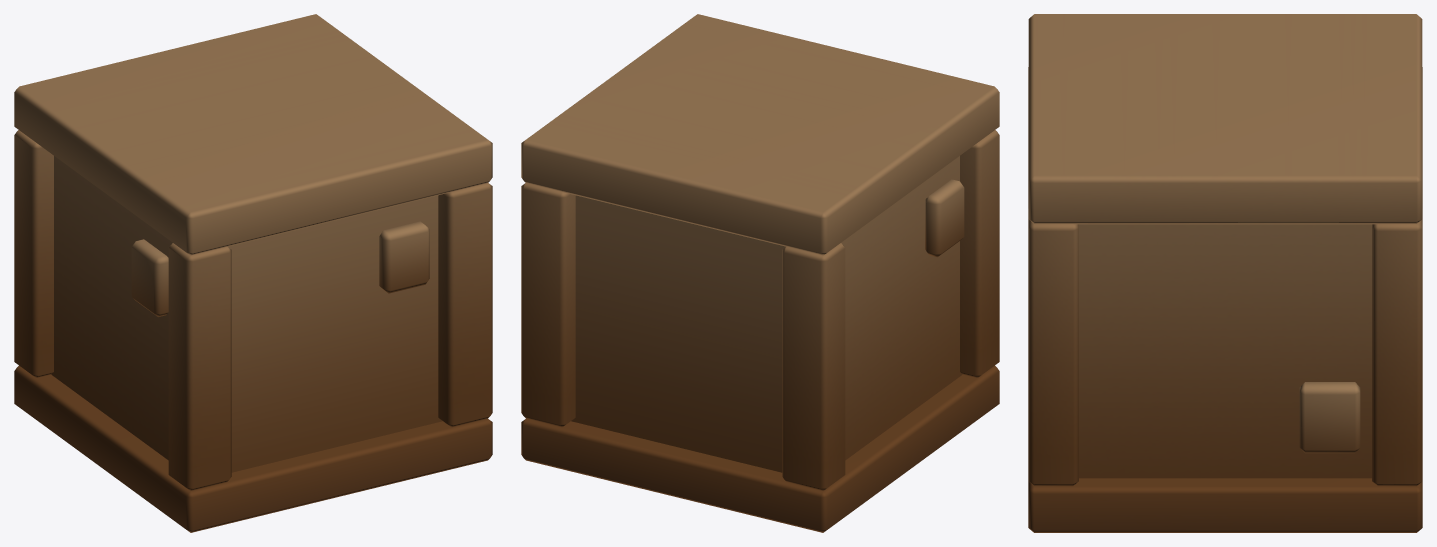
Rendered from SM_Clay_Body_01.fbx.
3 renders of one model, left to right at view 1: azimuth 30°, elevation 25°; view 2: azimuth 150°, elevation 25°; view 3: azimuth 270°, elevation 25°, orthographic. The views are drawn at different scales.
Parts seen in each view (by area): view 1: SM_Clay_Body_01; view 2: SM_Clay_Body_01; view 3: SM_Clay_Body_01.
Part boxes in pixels (left/top/right/bottom): SM_Clay_Body_01: left=14, top=14, right=492, bottom=532; SM_Clay_Body_01: left=521, top=14, right=999, bottom=532; SM_Clay_Body_01: left=1028, top=14, right=1422, bottom=532.
Bounding box in the file's own units: 0.9958 × 0.9958 × 0.9958.
